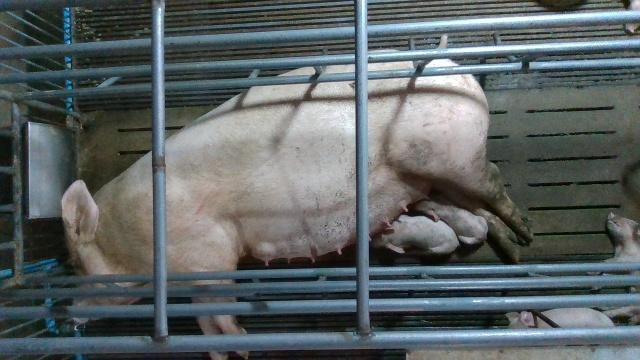piglet: (587, 212, 640, 324), (410, 194, 489, 243), (370, 215, 460, 256), (504, 308, 615, 327)
sow-sleep-lactate: (60, 48, 533, 360)
